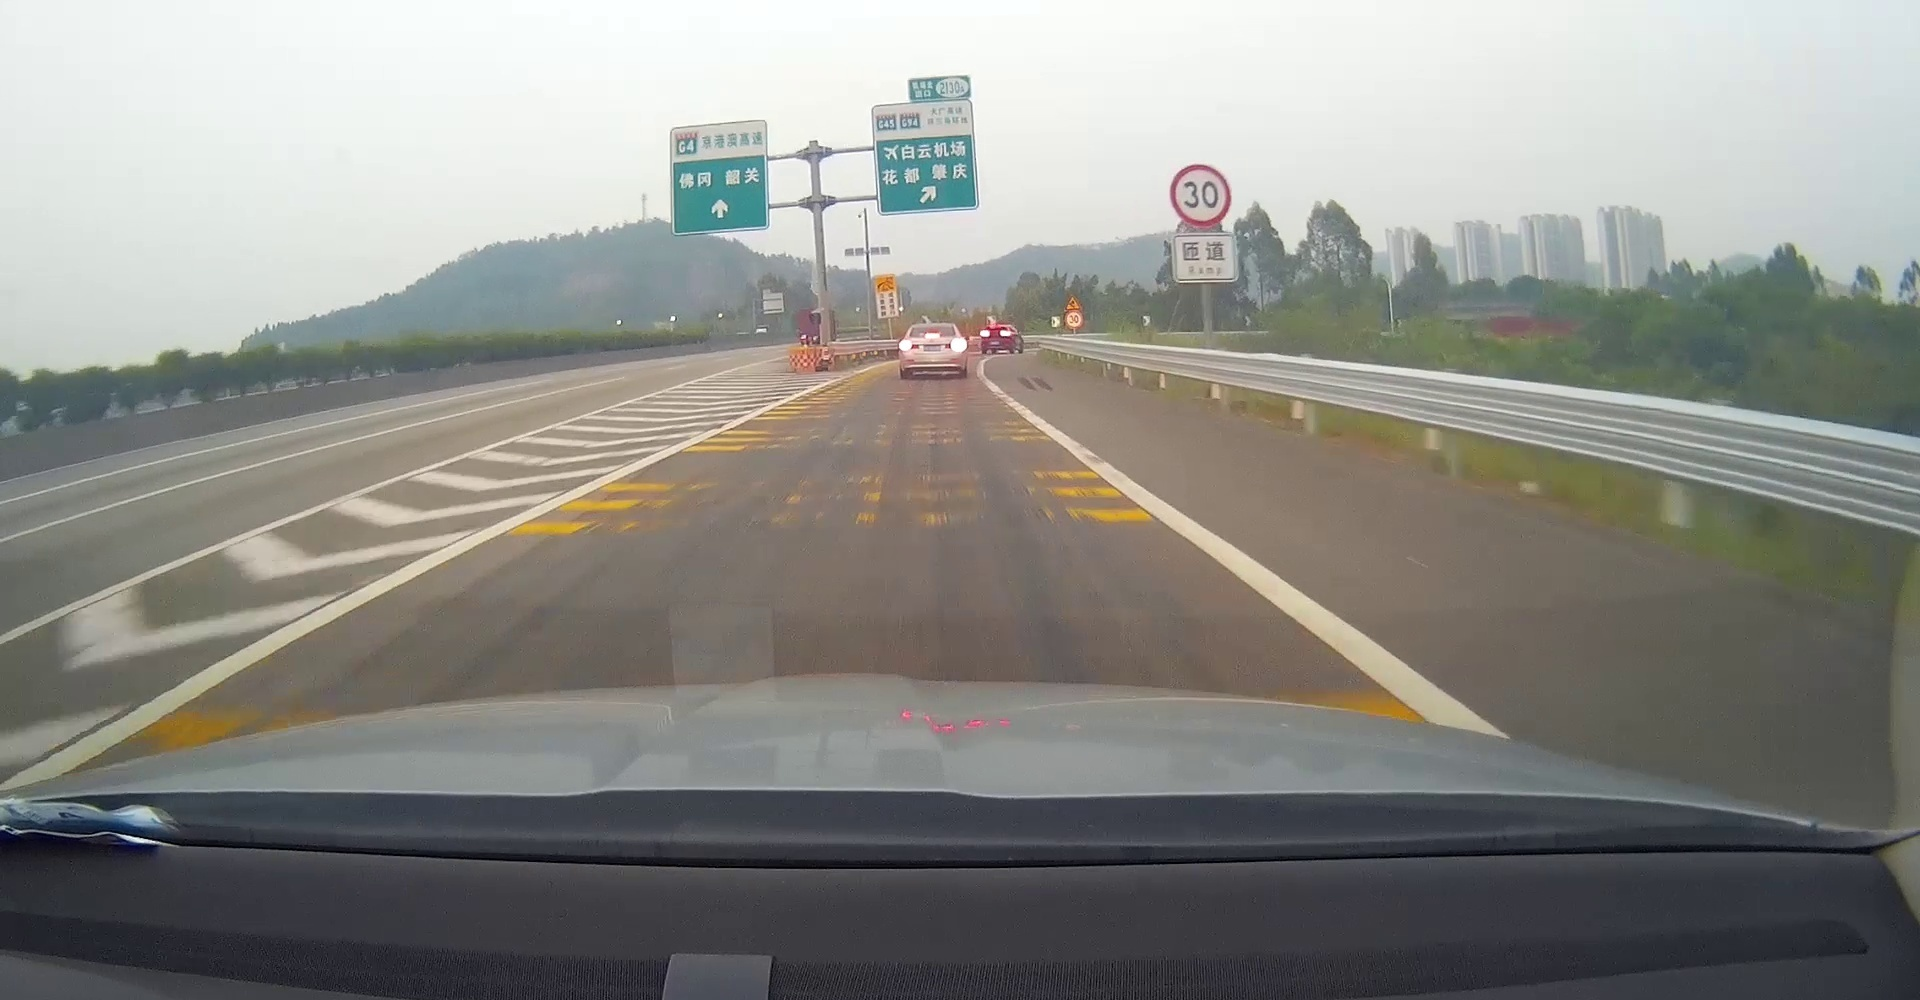L_light: (899, 340, 919, 352), (982, 331, 990, 336)
R_light: (943, 338, 968, 352), (1001, 331, 1010, 336)
T_light: (924, 332, 938, 338), (993, 325, 1001, 327)
day-brake: (898, 322, 968, 379), (980, 324, 1012, 354)
